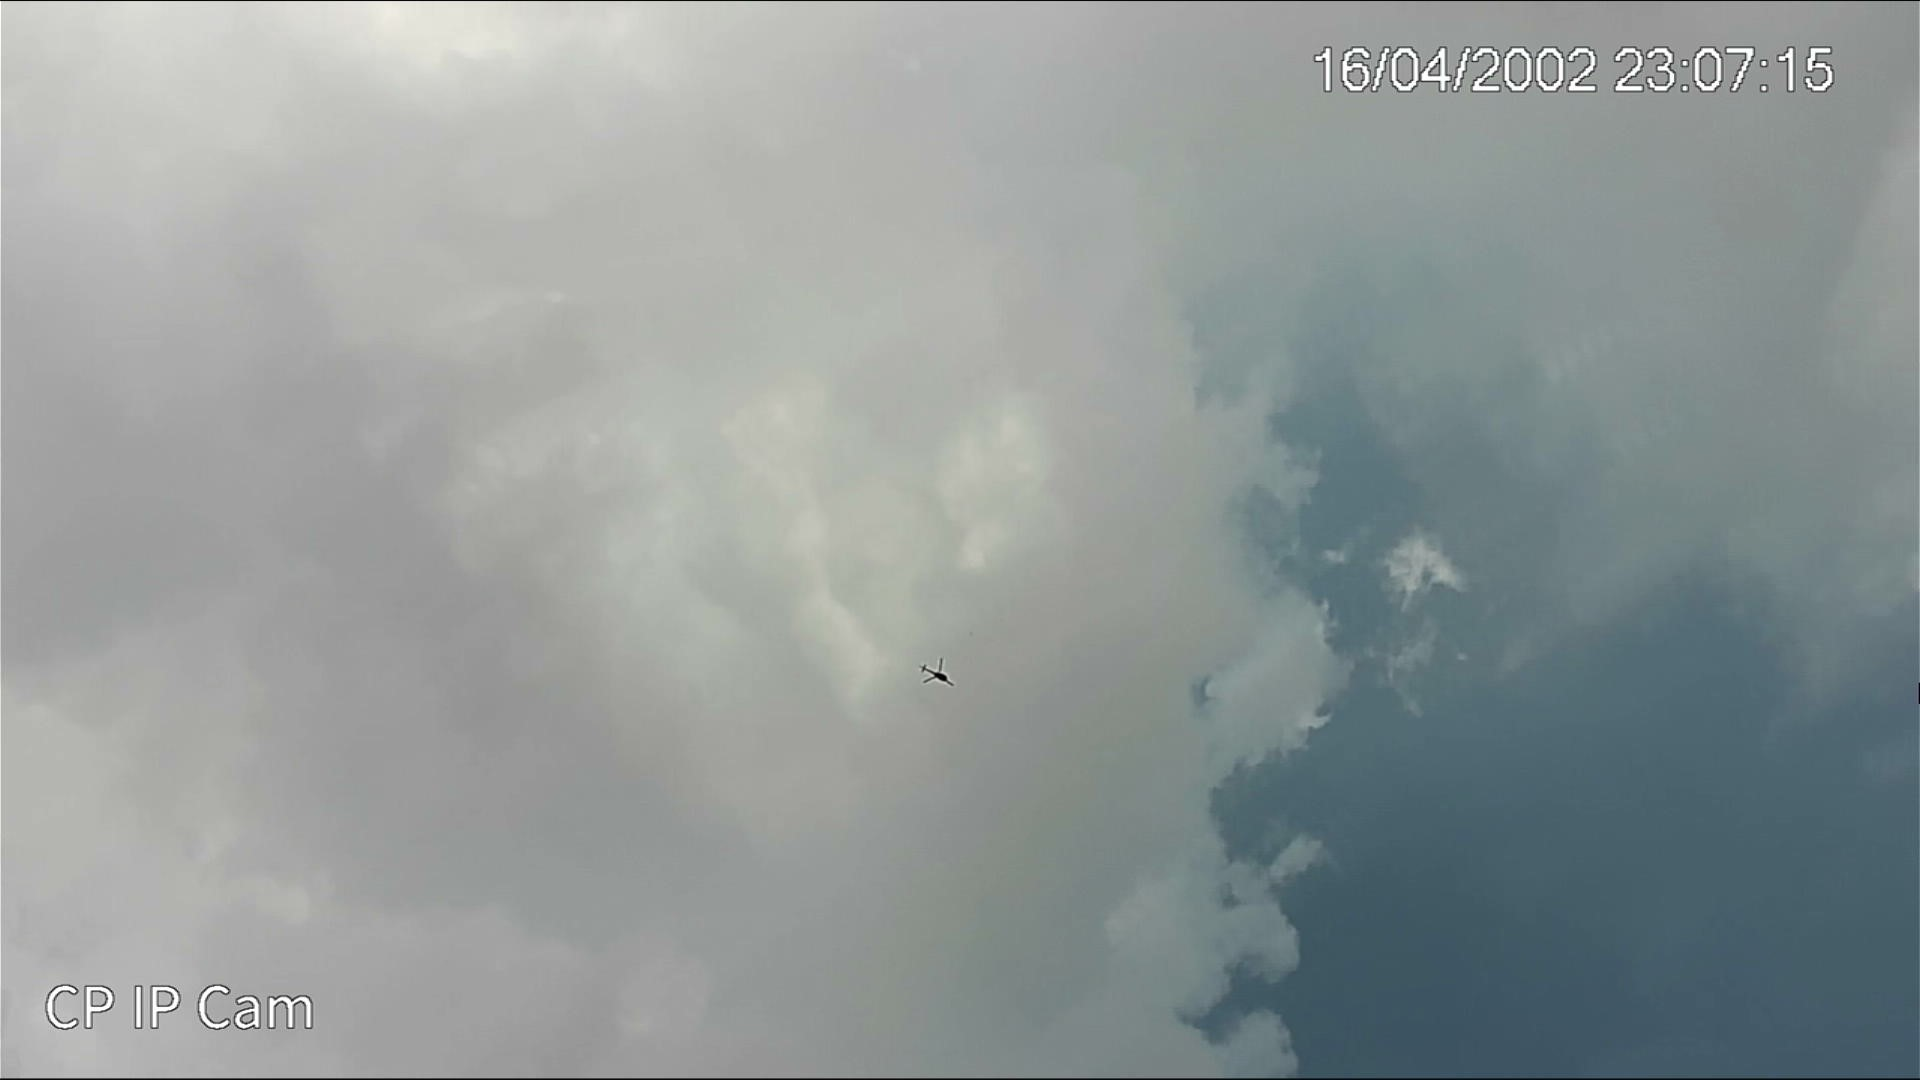SU_30: (920, 655, 957, 691)
